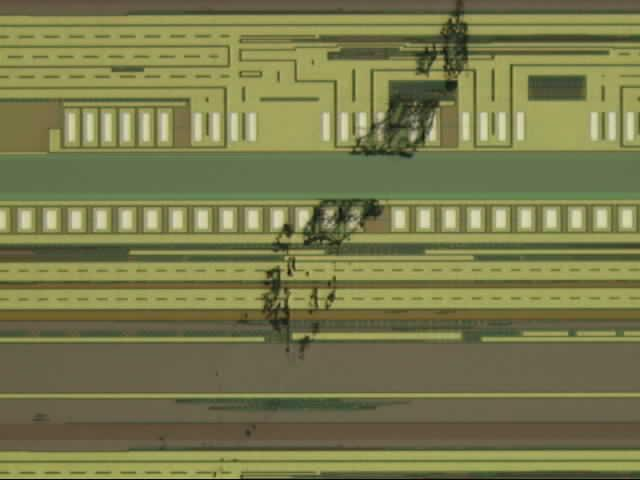SCRATCH: (145, 1, 481, 480)
